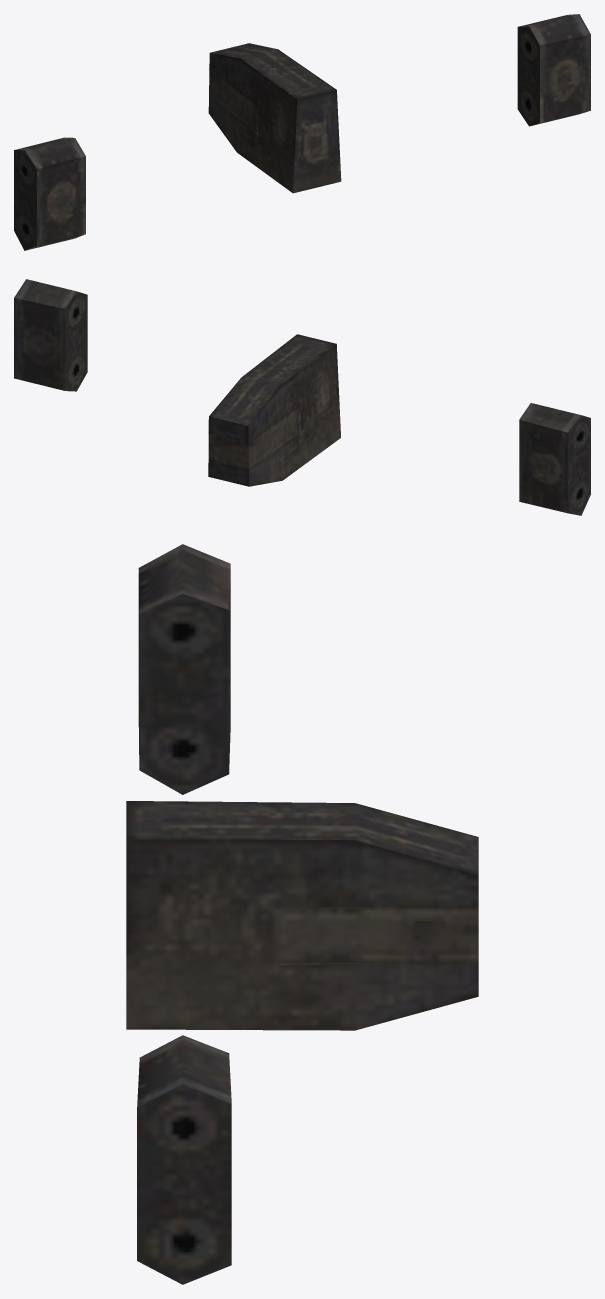
3 views of the same model, one above another, from view 1: azimuth 30°, elevation 25°; view 2: azimuth 150°, elevation 25°; view 3: azimuth 270°, elevation 25° (orthographic). The views are drawn at different scales.
Parts seen in each view (by area): view 1: set_0_group_0; view 2: set_0_group_0; view 3: set_0_group_0.
Boxes of the visible parts, <box> form: set_0_group_0: <box>14,14,590,250</box>; set_0_group_0: <box>14,279,590,515</box>; set_0_group_0: <box>126,544,478,1284</box>.
Size of the model in its own units: 0.725 by 0.1266 by 0.1994.
1 material, 1 textured.
